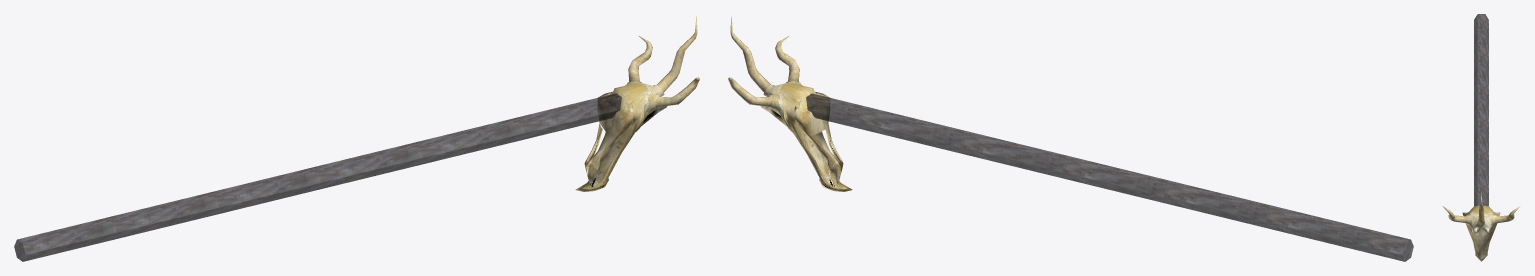
3 renders of one model, left to right at view 1: azimuth 30°, elevation 25°; view 2: azimuth 150°, elevation 25°; view 3: azimuth 270°, elevation 25°, orthographic. The views are drawn at different scales.
Visible parts, largest first — view 1: it125; view 2: it125; view 3: it125.
Boxes of the visible parts, left/top/right/bottom form: it125: left=14, top=16, right=699, bottom=261; it125: left=728, top=16, right=1413, bottom=261; it125: left=1442, top=14, right=1520, bottom=261.
Size of the model in its own units: 7.08 by 1.52 by 1.07.
Materials: 4 (4 with a texture image).
